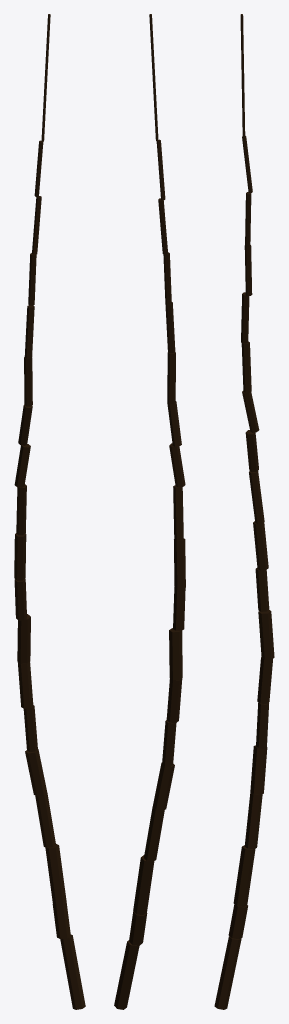
Rendered from tree_553_no_leaf.obj.
3 views of the same model, side by side, from view 1: azimuth 30°, elevation 25°; view 2: azimuth 210°, elevation 25°; view 3: azimuth 270°, elevation 25° (orthographic).
Parts seen in each view (by area): view 1: TrunkAndBranches; view 2: TrunkAndBranches; view 3: TrunkAndBranches.
Part boxes in pixels (x1,y1,x2,y2): TrunkAndBranches: (14,14,85,1009); TrunkAndBranches: (114,14,185,1009); TrunkAndBranches: (214,14,274,1009).
Size of the model in its own units: 0.2133 by 3.91 by 0.2166.
